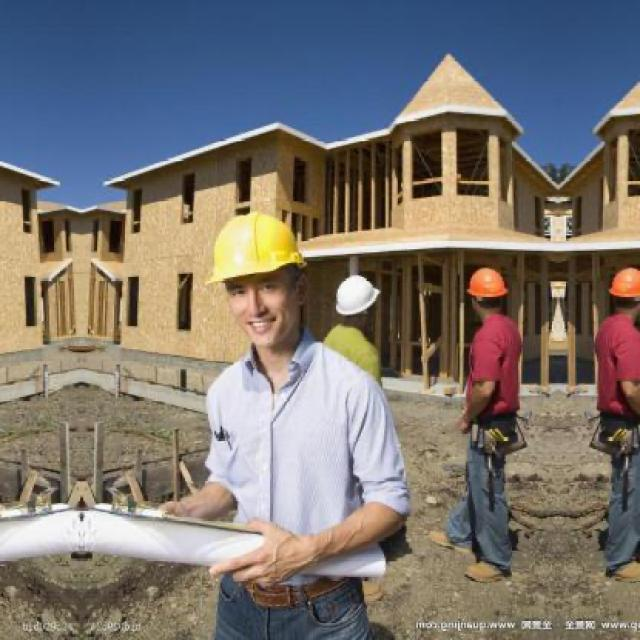helmet: (206, 206, 314, 349), (332, 269, 379, 328), (464, 268, 511, 322), (605, 266, 640, 321)
